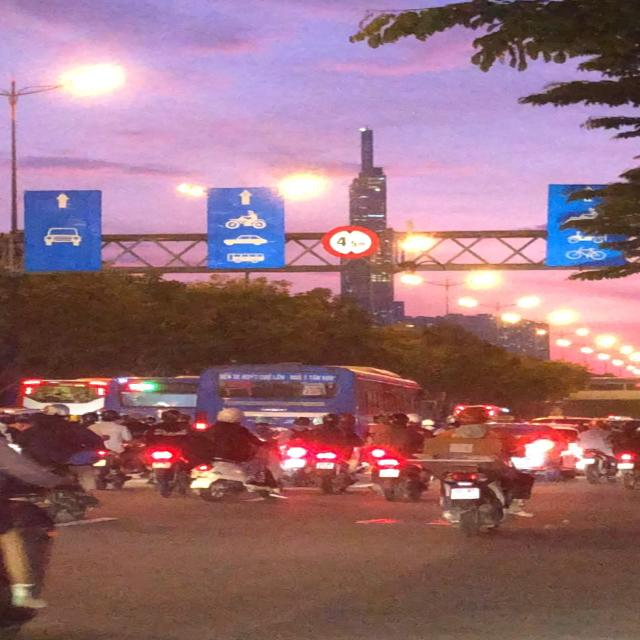Bien bao han che chieu cao: (317, 223, 393, 262)
